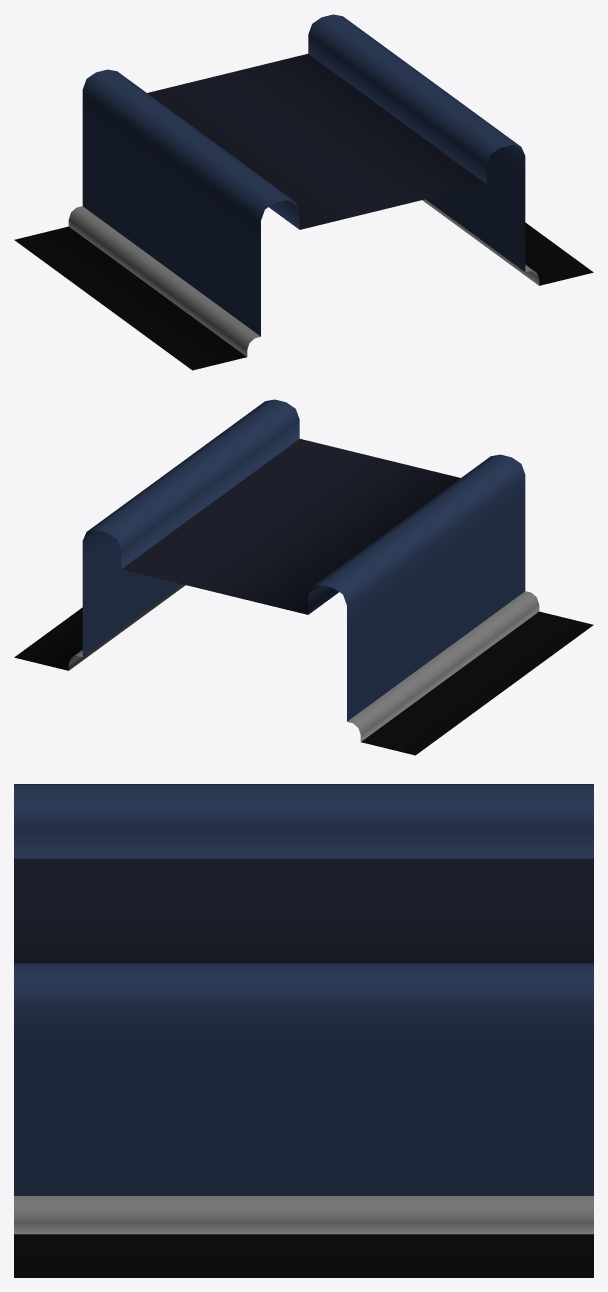
File: Conveyor Up.fbx
3 views of the same model, one above another, from view 1: azimuth 30°, elevation 25°; view 2: azimuth 150°, elevation 25°; view 3: azimuth 270°, elevation 25° (orthographic). The views are drawn at different scales.
Visible parts, largest first — view 1: Conveyor Up; view 2: Conveyor Up; view 3: Conveyor Up.
Part boxes in pixels (x1,y1,x2,y2): Conveyor Up: [14, 14, 593, 370]; Conveyor Up: [14, 399, 593, 755]; Conveyor Up: [14, 784, 593, 1277].
Bounding box in the file's own units: 260 × 91.17 × 200.
